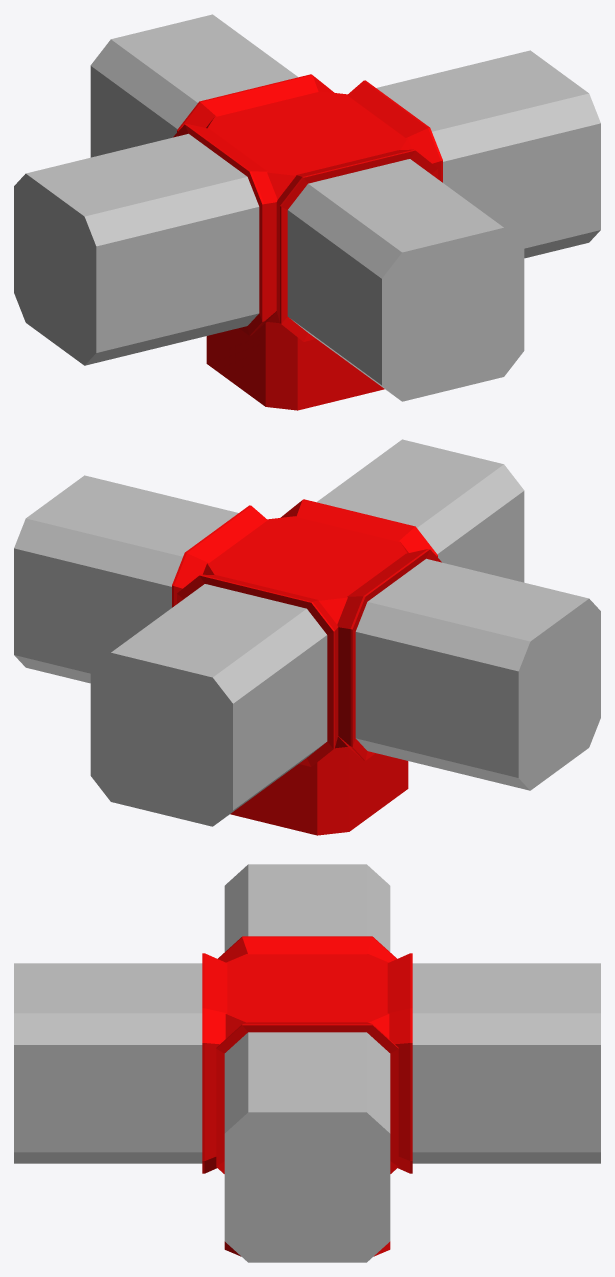
Rendered from perecrestok.fbx.
3 views of the same model, one above another, from view 1: azimuth 30°, elevation 25°; view 2: azimuth 150°, elevation 25°; view 3: azimuth 270°, elevation 25° (orthographic).
Parts seen in each view (by area): view 1: perecrestok; view 2: perecrestok; view 3: perecrestok.
Boxes of the visible parts, x1=… form: perecrestok: x1=14, y1=14, x2=600, y2=410; perecrestok: x1=14, y1=439, x2=600, y2=835; perecrestok: x1=14, y1=864, x2=600, y2=1262.
Bounding box in the file's own units: 4954 × 2270 × 4954.
